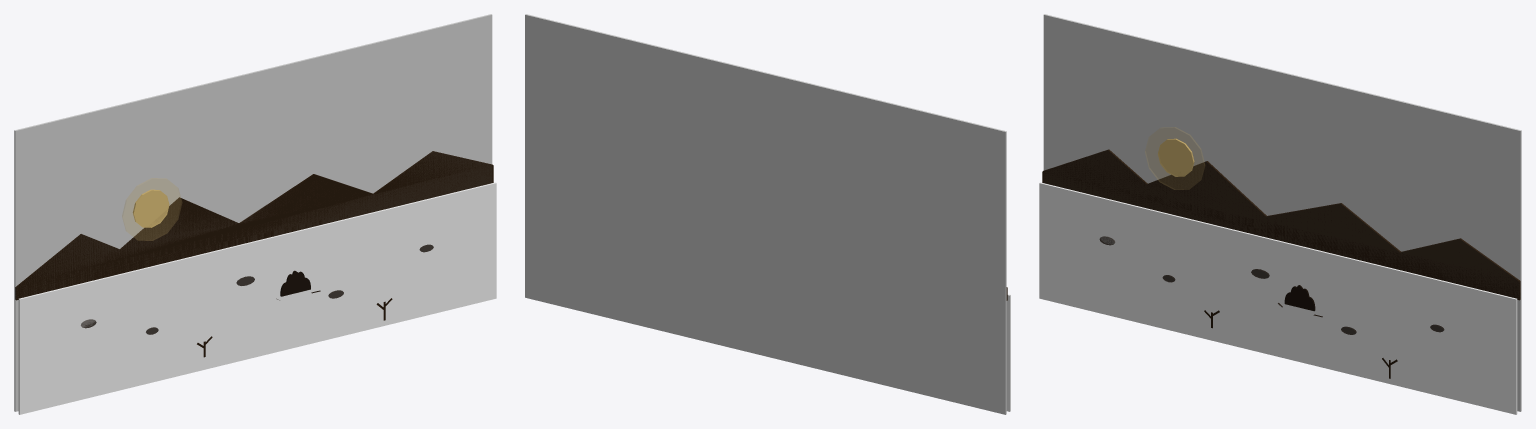
File: loc-gobi.glb
3 views of the same model, side by side, from view 1: azimuth 30°, elevation 25°; view 2: azimuth 150°, elevation 25°; view 3: azimuth 330°, elevation 25° (orthographic).
Visible parts, largest first — view 1: loc-gobi; view 2: loc-gobi; view 3: loc-gobi.
Part boxes in pixels (x1=…): loc-gobi: x1=14, y1=14, x2=496, y2=414; loc-gobi: x1=525, y1=14, x2=1010, y2=414; loc-gobi: x1=1039, y1=14, x2=1521, y2=414.
Bounding box in the file's own units: 5.33 × 3 × 0.28.
